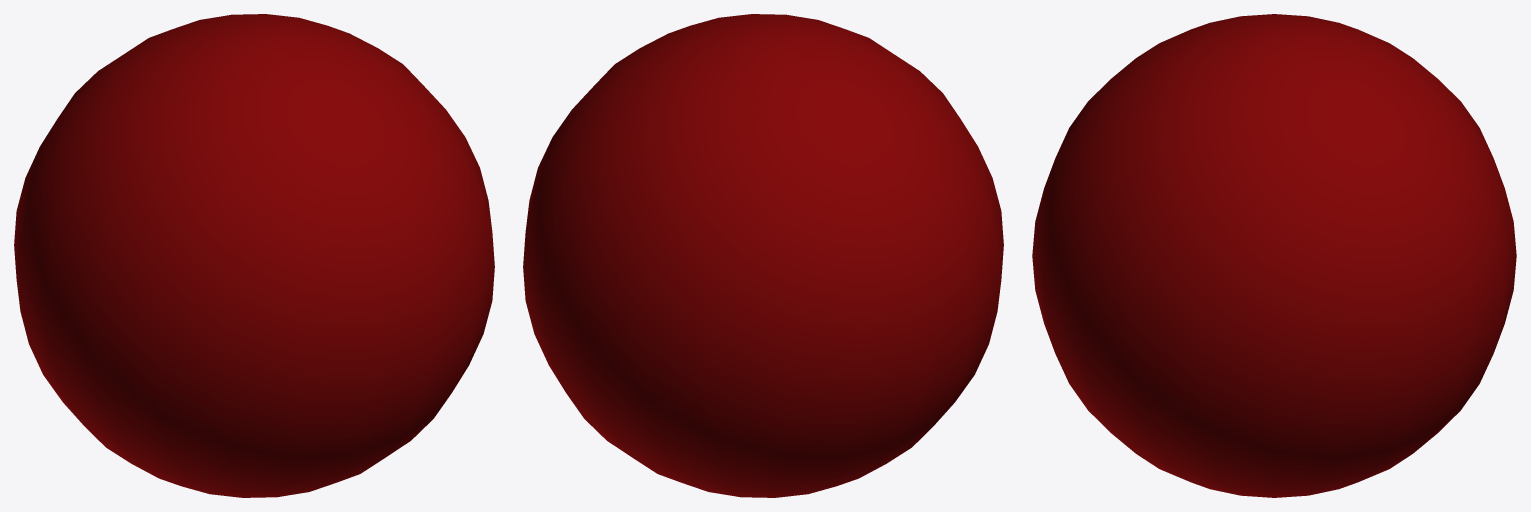
3 views of the same model, side by side, from view 1: azimuth 30°, elevation 25°; view 2: azimuth 150°, elevation 25°; view 3: azimuth 270°, elevation 25° (orthographic).
Parts seen in each view (by area): view 1: Orbital_1S; view 2: Orbital_1S; view 3: Orbital_1S.
Part boxes in pixels (left/top/right/bottom): Orbital_1S: left=14, top=14, right=494, bottom=497; Orbital_1S: left=523, top=14, right=1003, bottom=497; Orbital_1S: left=1032, top=14, right=1516, bottom=497.
Size of the model in its own units: 35.19 by 35.17 by 35.17.
2 materials, 2 textured.
